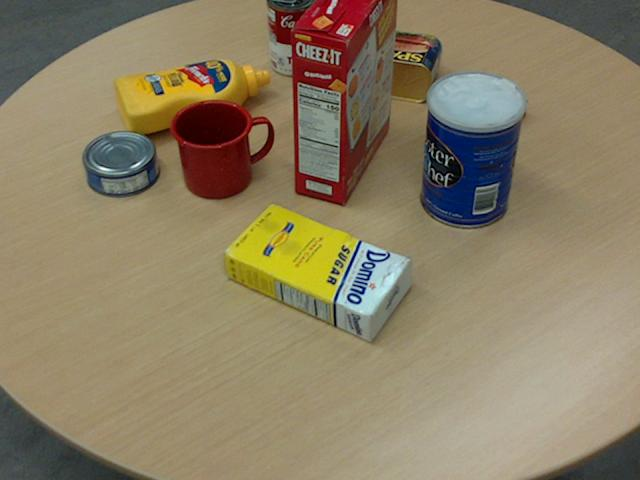cracker_box: (289, 0, 398, 203)
gelatin_box: (438, 76, 526, 143)
large_marker: (296, 23, 311, 111)
master_chef_can: (420, 71, 524, 228)
mug: (169, 98, 271, 197)
mustard_bottle: (113, 58, 269, 134)
potted_meat_can: (354, 29, 441, 102)
sugar_box: (220, 203, 412, 342)
tomato_soup_can: (267, 0, 317, 74)
tuna_fish_can: (81, 129, 158, 195)
